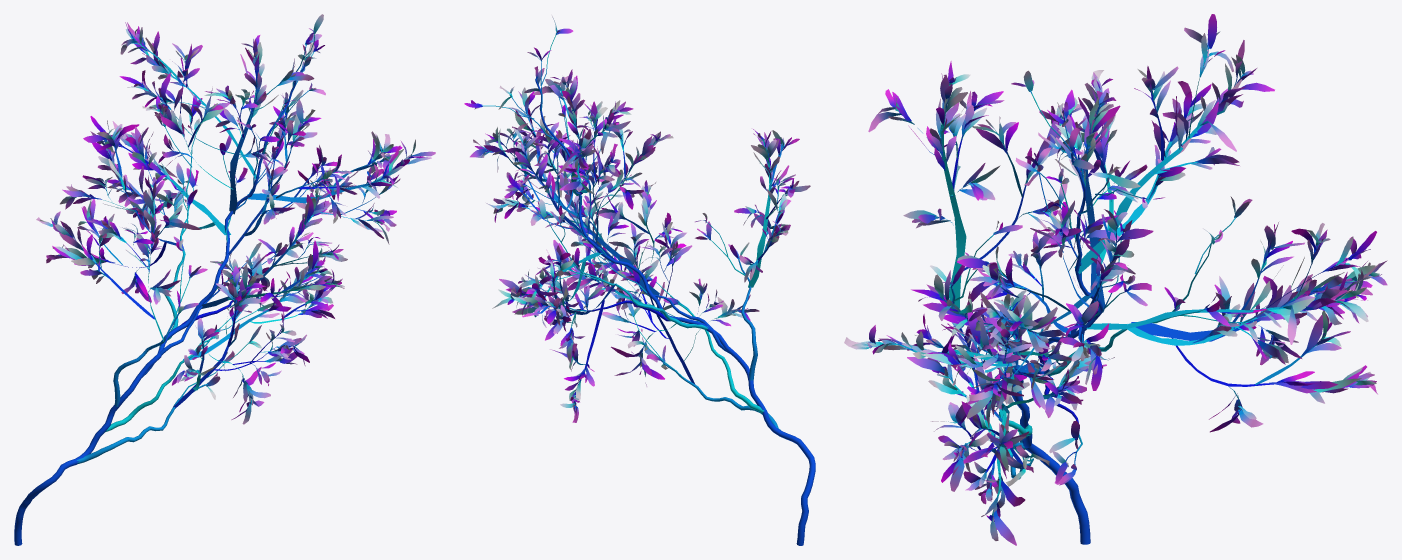
The model's file is Downy_Willow_wknlfiuqx_Mid_wknlfiuqx_VarH_LOD1.fbx.
The picture shows the model from 3 angles, left to right: view 1: azimuth 30°, elevation 25°; view 2: azimuth 150°, elevation 25°; view 3: azimuth 270°, elevation 25°; orthographic projection. The views are drawn at different scales.
Visible parts, largest first — view 1: _2g89_VarH_LOD2; view 2: _2g89_VarH_LOD2; view 3: _2g89_VarH_LOD2.
Boxes of the visible parts, x1,y1,x2,y2 form: _2g89_VarH_LOD2: [14, 14, 435, 545]; _2g89_VarH_LOD2: [464, 16, 815, 545]; _2g89_VarH_LOD2: [844, 14, 1387, 545].
Bounding box in the file's own units: 169 × 209 × 155.
